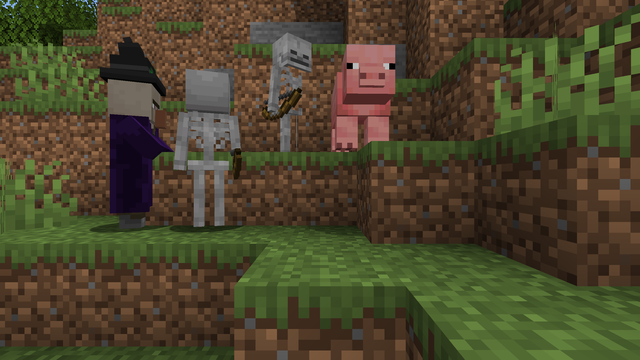cochons: (323, 72, 399, 155)
sorcieres: (95, 73, 164, 229)
squelettes: (175, 69, 238, 228), (271, 34, 309, 132)
